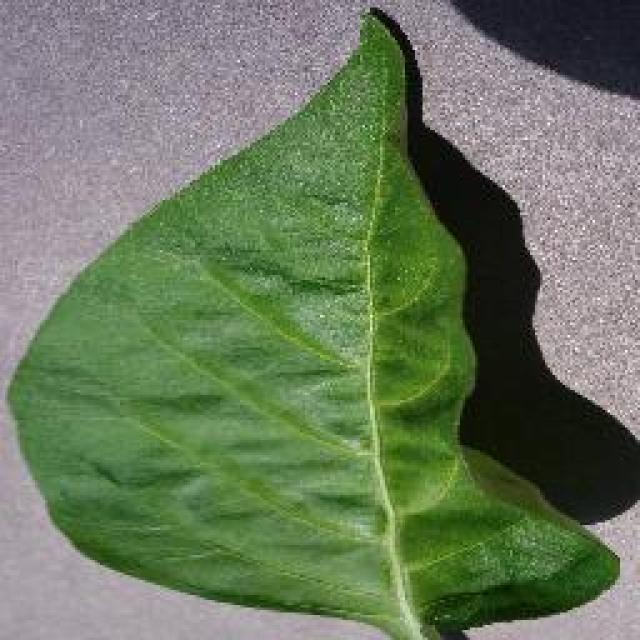Leaf: (22, 18, 620, 622)
